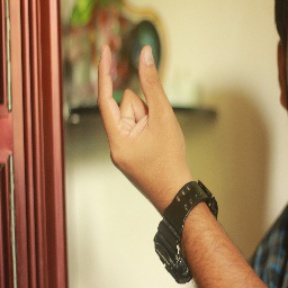U: (90, 34, 191, 181)
